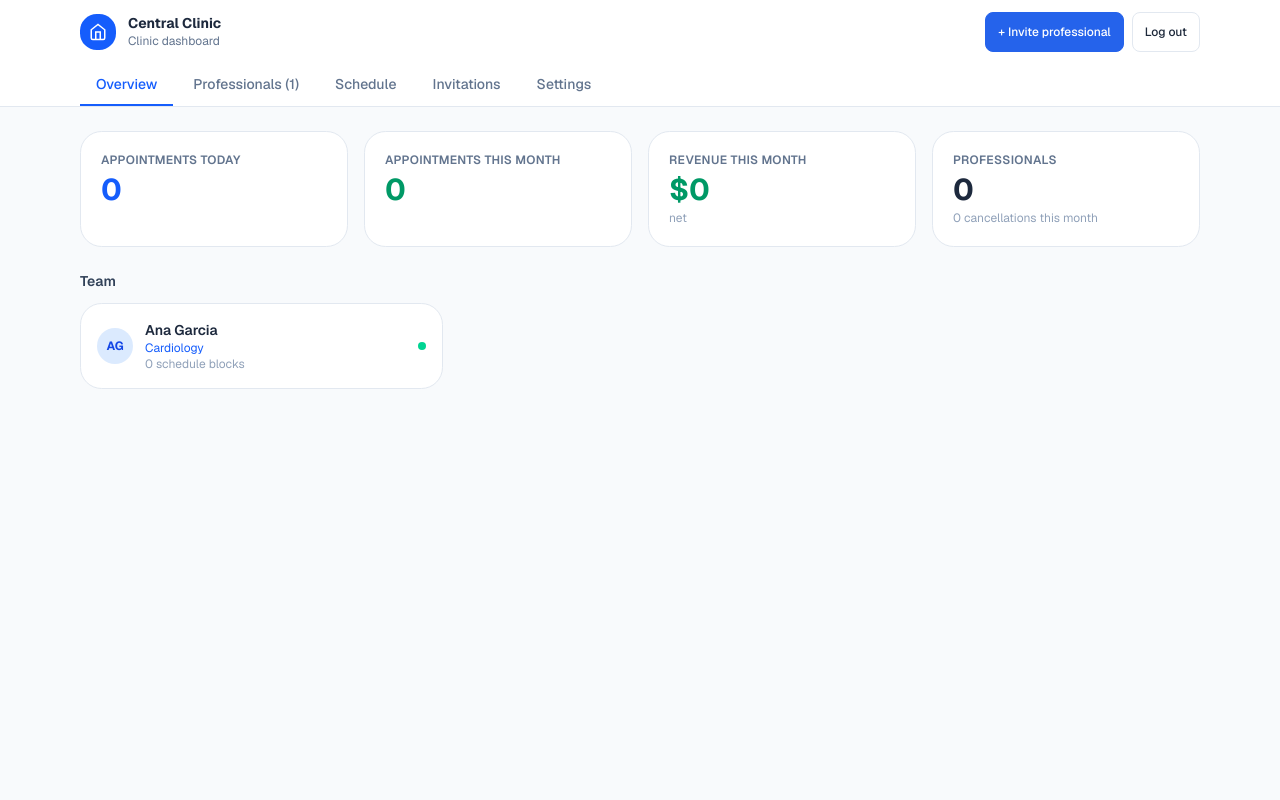
Test: ClinicaDashboard › renders remove modal copy and shows fallback removal errors
The width and height of the screenshot is (1280, 800).
Expected: the text "Clinic dashboard" is shown, [128,33,221,49]
Click the button "Professionals (1)": [246, 85] box [177,64,315,106]
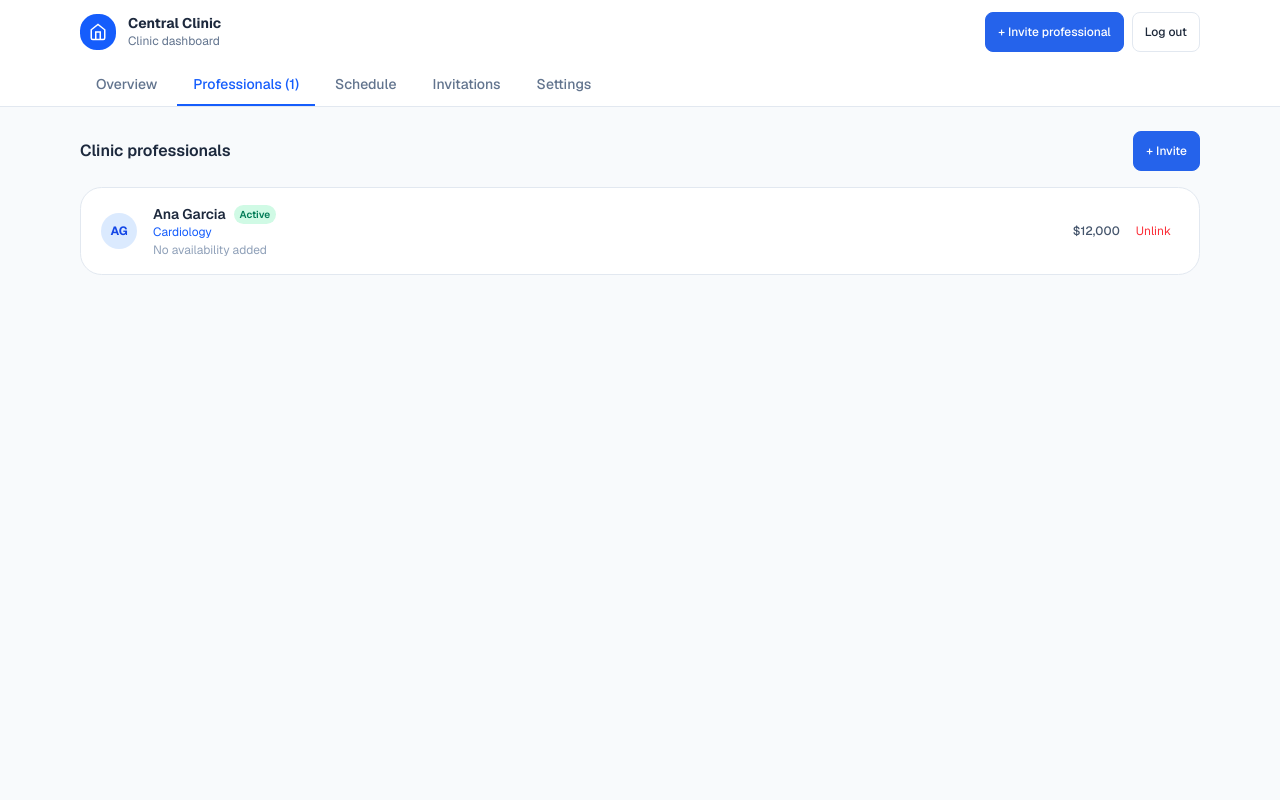
Click the button "Unlink": [1153, 231] box [1128,219,1179,243]
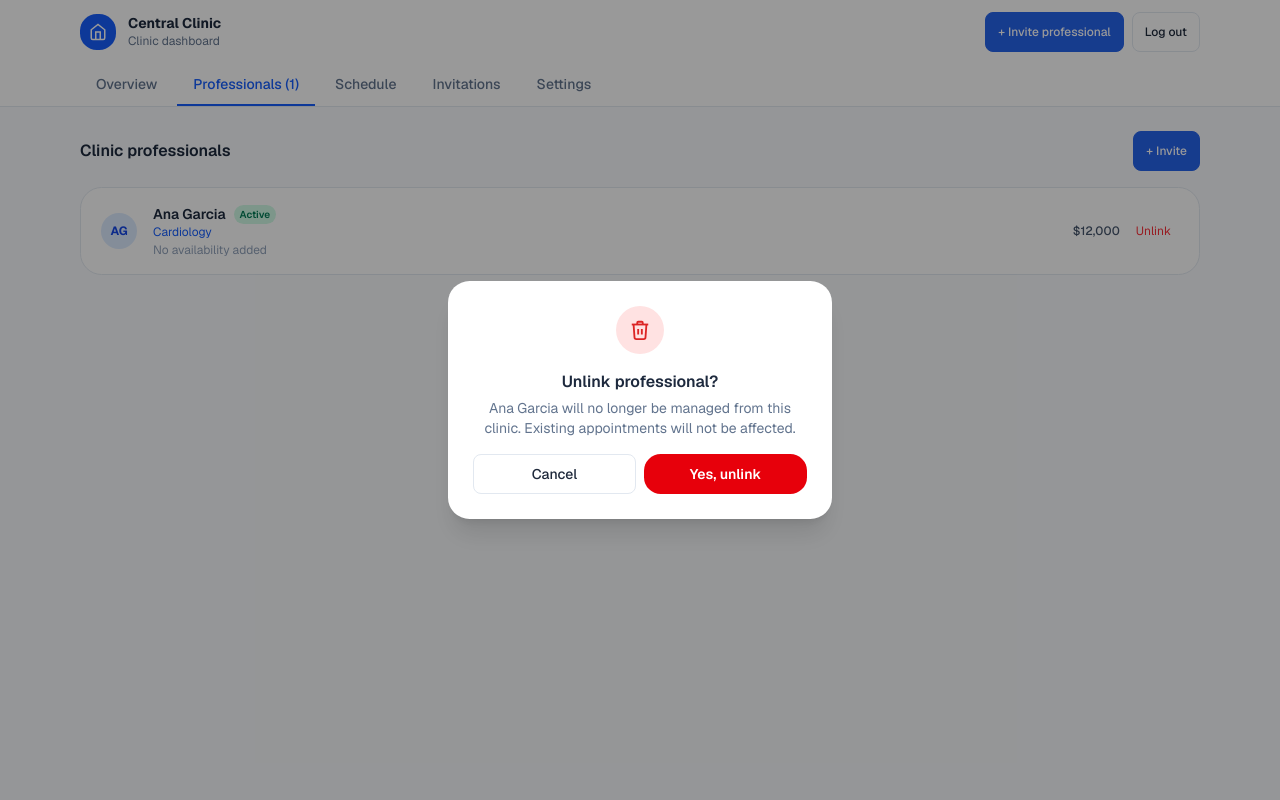
Expected: the text "Unlink professional?" is shown, [562,371,718,392]
Expected: the text "Ana Garcia will no longer be managed from this clinic" is shown, [484,399,796,437]
Click the button "Yes, unlink": [726, 474] box [644,454,807,494]
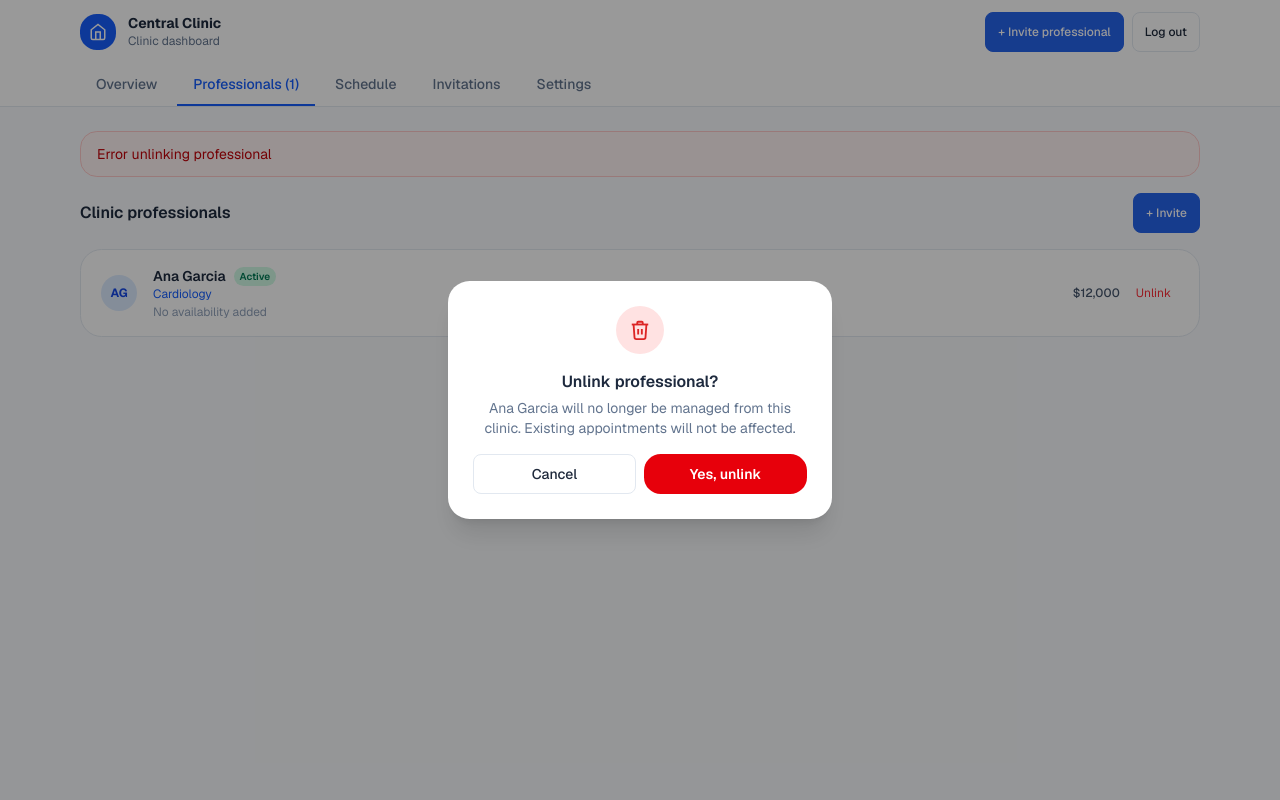
Expected: the text "Error unlinking professional" is shown, [80,131,1200,177]
